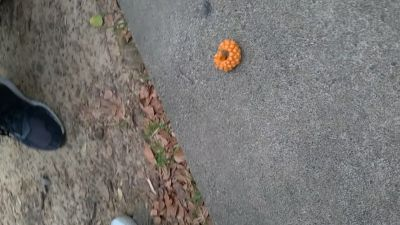eggs: (212, 38, 243, 74)
